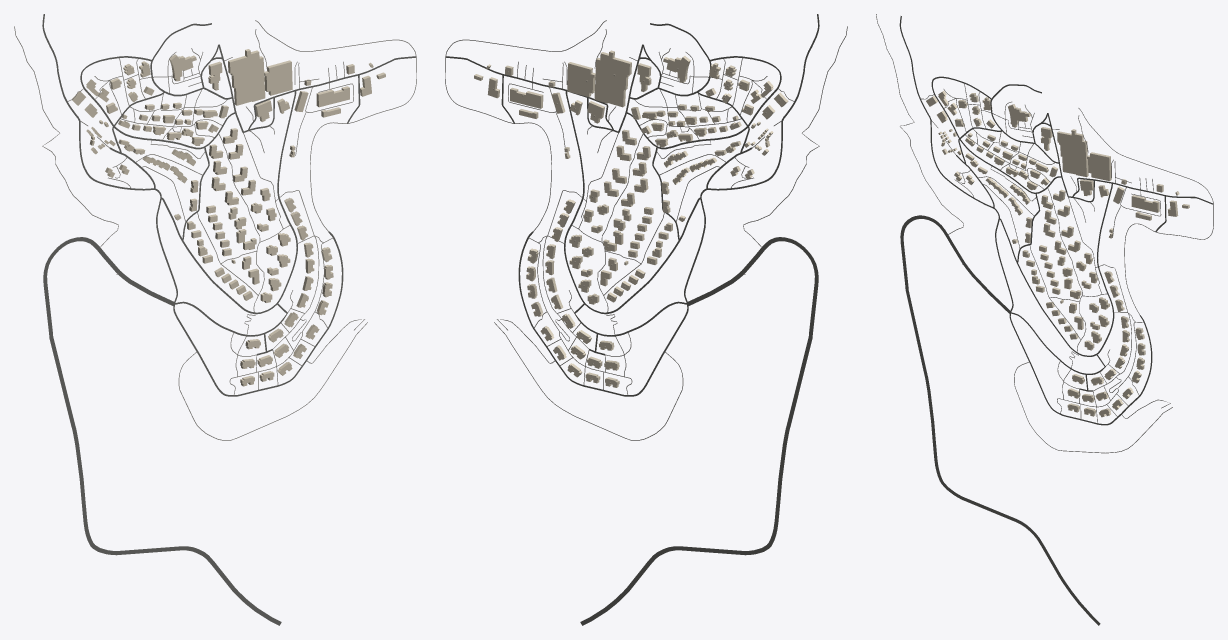
File: historic-palestine-12_36_3543_3305.glb
3 views of the same model, side by side, from view 1: azimuth 30°, elevation 25°; view 2: azimuth 150°, elevation 25°; view 3: azimuth 330°, elevation 25° (orthographic). The views are drawn at different scales.
Parts seen in each view (by area): view 1: Road 8963, Building_.065, Road .004, Building_.066, Road, Road .016, Road .043; view 2: Road 8963, Building_.065, Road .004, Building_.066, Road, Road .016, Road .043; view 3: Road 8963, Building_.065, Road .004, Road, Building_.066, Road .016, Road .043.
Boxes of the visible parts, x1,y1,x2,y2 form: Road 8963: (43, 237, 281, 625); Building_.065: (228, 49, 265, 105); Road .004: (161, 91, 297, 314); Building_.066: (264, 60, 292, 95); Road: (42, 14, 177, 303); Road .016: (173, 231, 343, 396); Road .043: (80, 56, 234, 149); Road 8963: (580, 237, 818, 625); Building_.065: (594, 50, 631, 107); Road .004: (564, 90, 700, 314); Building_.066: (567, 62, 595, 97); Road: (684, 14, 819, 304); Road .016: (518, 231, 688, 396); Road .043: (627, 56, 781, 149); Road 8963: (900, 215, 1100, 625); Building_.065: (1057, 129, 1088, 177); Road .004: (999, 183, 1114, 356); Road: (899, 16, 1013, 312); Building_.066: (1087, 152, 1111, 181); Road .016: (1009, 313, 1152, 425); Road .043: (931, 76, 1061, 193).
Size of the model in its own units: 834 by 1325 by 8.7.
